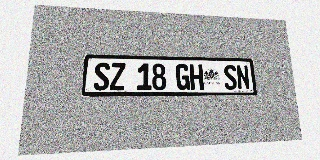1: (137, 63, 151, 90)
8: (152, 63, 166, 90)
G: (176, 64, 190, 90)
H: (189, 64, 204, 90)
N: (236, 65, 250, 90)
S: (93, 62, 110, 90), (223, 65, 238, 90)
Z: (110, 63, 125, 90)
